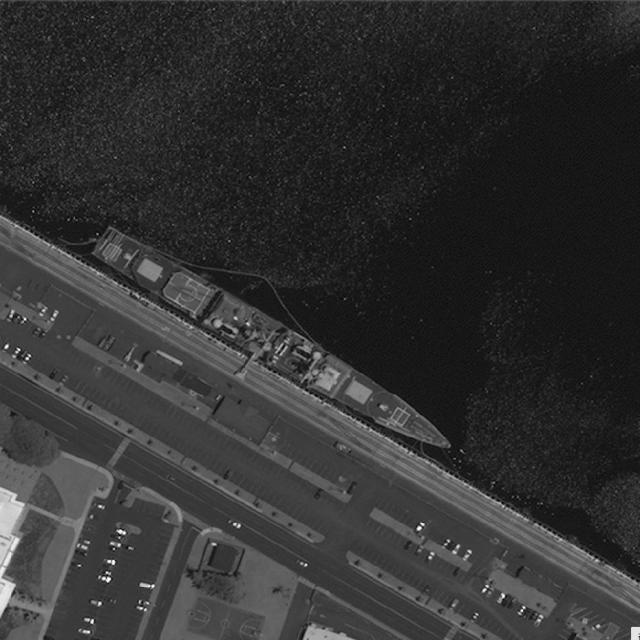Cruiser: (89, 223, 460, 462)
